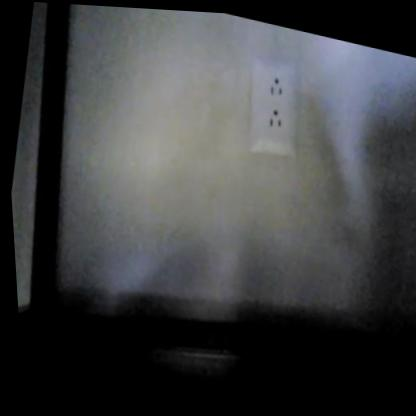OUTLET: (237, 49, 313, 166)
